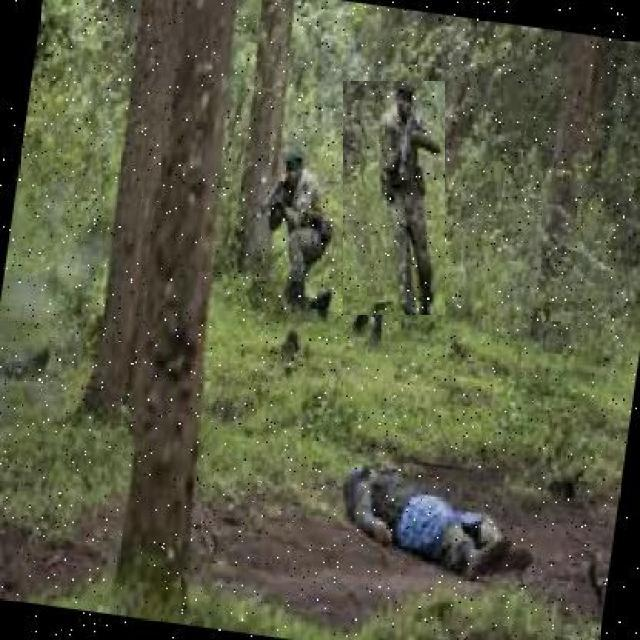poacher: (343, 82, 445, 316), (340, 450, 536, 568), (258, 146, 329, 292)
